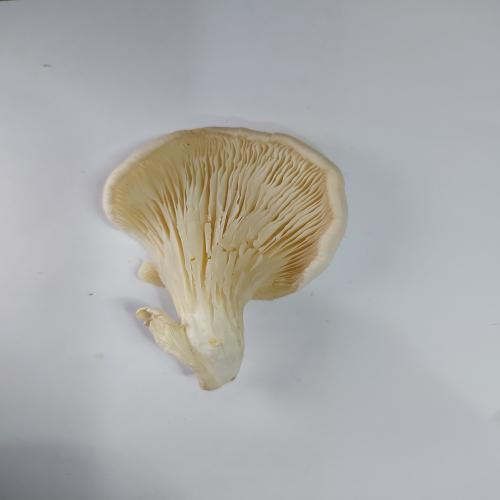Oyster Mushroom: (101, 125, 349, 391)
